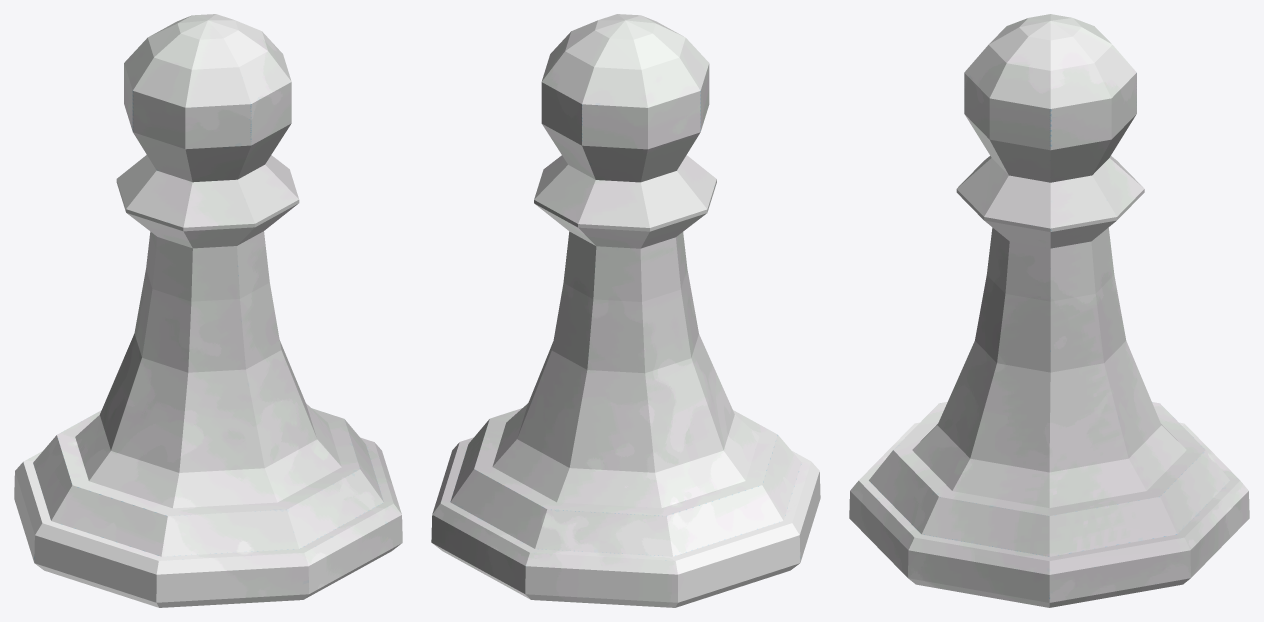
File: Pawn.fbx
The picture shows the model from 3 angles, left to right: view 1: azimuth 30°, elevation 25°; view 2: azimuth 150°, elevation 25°; view 3: azimuth 270°, elevation 25°; orthographic projection.
Visible parts, largest first — view 1: node_id32; view 2: node_id32; view 3: node_id32.
Boxes of the visible parts, x1,y1,x2,y2 form: node_id32: (14,14,402,607); node_id32: (431,14,820,607); node_id32: (849,14,1249,607).
Size of the model in its own units: 229 by 320 by 229.
